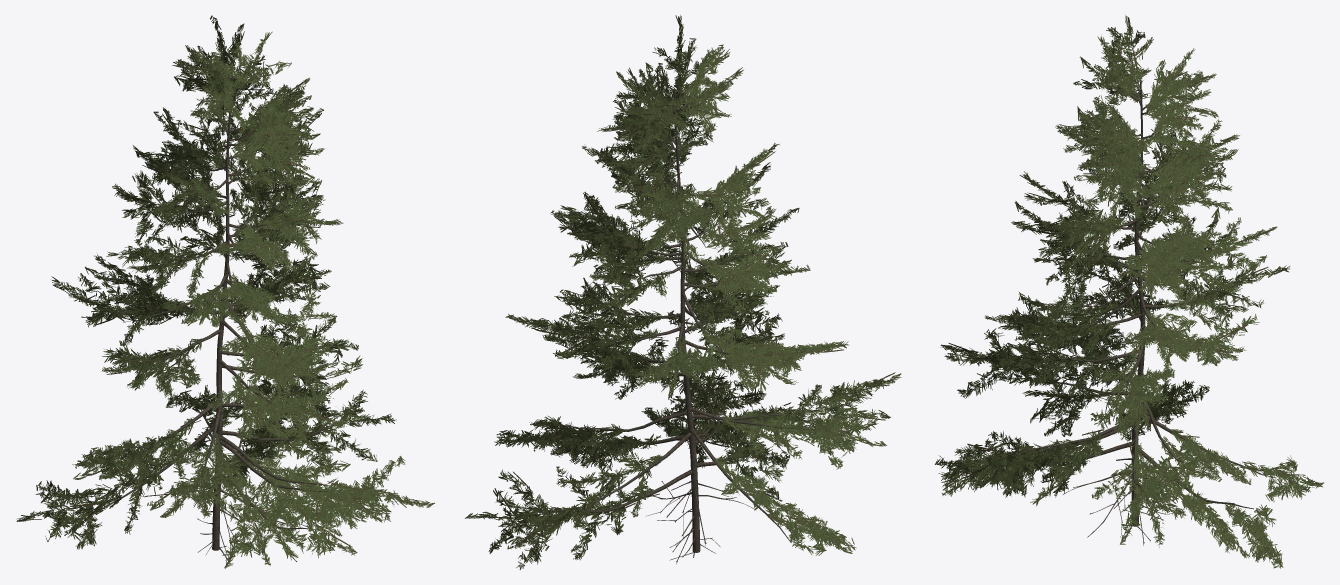
3 views of the same model, side by side, from view 1: azimuth 30°, elevation 25°; view 2: azimuth 150°, elevation 25°; view 3: azimuth 270°, elevation 25° (orthographic). The views are drawn at different scales.
Visible parts, largest first — view 1: fir_sapling_medium__c_lod0; view 2: fir_sapling_medium__c_lod0; view 3: fir_sapling_medium__c_lod0.
Part boxes in pixels (x1,y1,x2,y2): fir_sapling_medium__c_lod0: (16,15,434,568); fir_sapling_medium__c_lod0: (465,15,901,569); fir_sapling_medium__c_lod0: (935,15,1323,568).
Size of the model in its own units: 4.31 by 5.92 by 4.04.
Materials: 2 (2 with a texture image).
